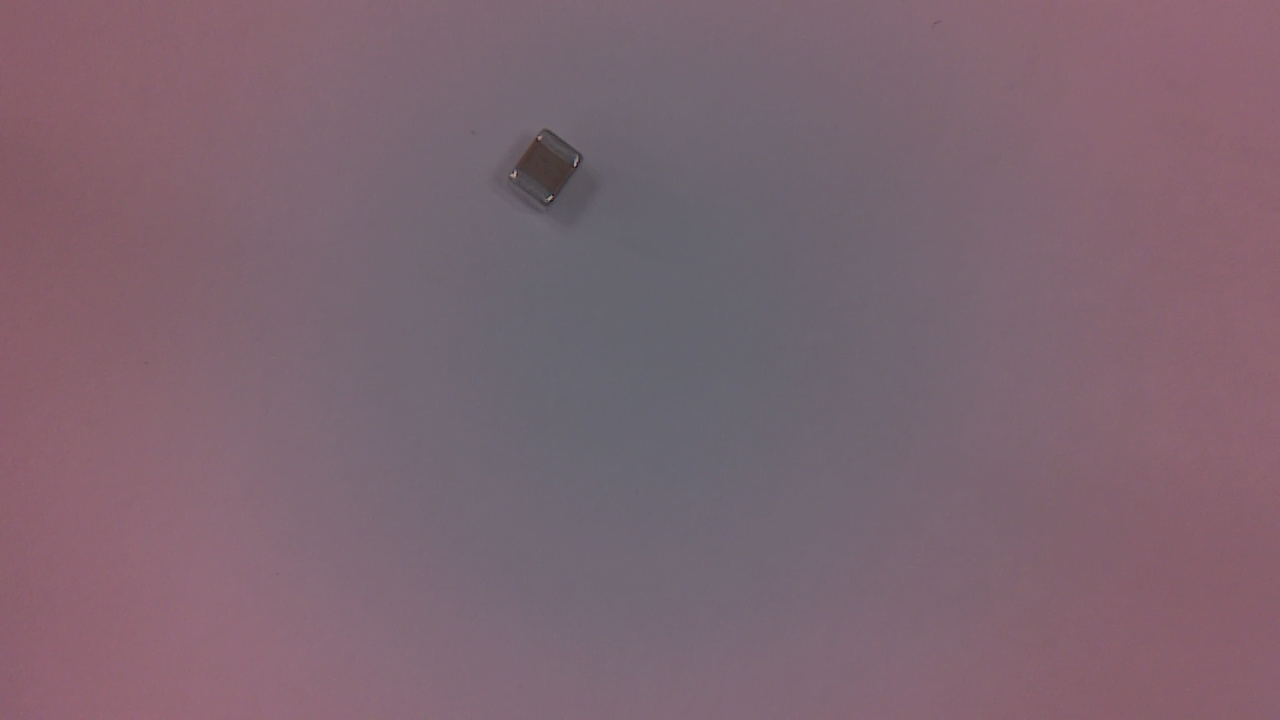Condensator: (513, 123, 587, 207)
